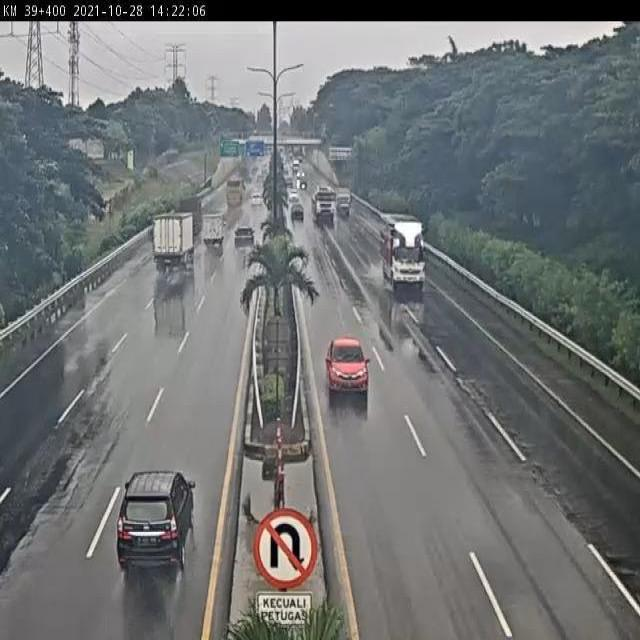car: (116, 465, 199, 571), (325, 335, 369, 388), (231, 223, 258, 255)
truck: (381, 216, 426, 287), (148, 211, 195, 272), (172, 199, 202, 240), (198, 216, 223, 252)
